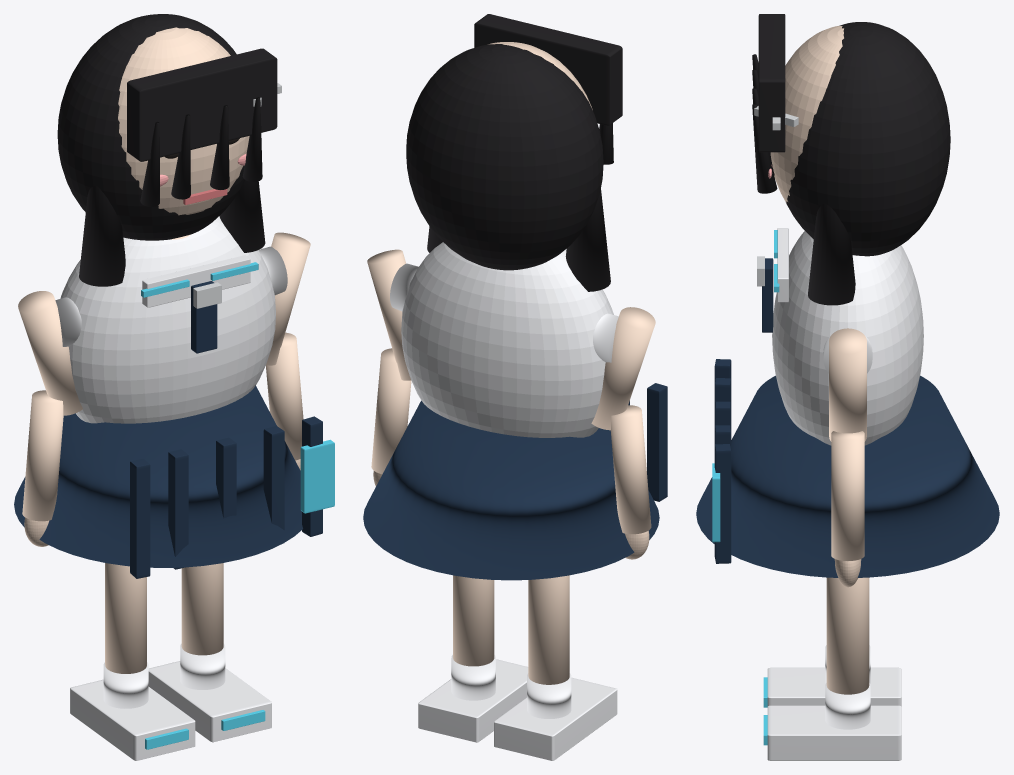
The model's file is athena-3d-default.glb.
The picture shows the model from 3 angles, left to right: view 1: azimuth 30°, elevation 25°; view 2: azimuth 150°, elevation 25°; view 3: azimuth 270°, elevation 25°; orthographic projection. The views are drawn at different scales.
Parts seen in each view (by area): view 1: ATH_SKIRT, ATH_TORSO_BLOUSE, ATH_HAIR_BACK, ATH_HAIR_FRONT_BANGS, ATH_HEAD, ATH_SHOE_L, ATH_SHOE_R, ATH_LEG_L, ATH_ARM_LOWER_L, ATH_ARM_UPPER_L, ATH_LEG_R, ATH_HAIR_SIDE_L (+23 smaller); view 2: ATH_HAIR_BACK, ATH_SKIRT, ATH_TORSO_BLOUSE, ATH_HAIR_FRONT_BANGS, ATH_SHOE_L, ATH_SHOE_R, ATH_LEG_L, ATH_ARM_LOWER_L, ATH_ARM_UPPER_L, ATH_LEG_R, ATH_ARM_LOWER_R, ATH_HAIR_SIDE_L (+7 smaller); view 3: ATH_SKIRT, ATH_HAIR_BACK, ATH_TORSO_BLOUSE, ATH_SHOE_R, ATH_HEAD, ATH_LEG_R, ATH_ARM_LOWER_R, ATH_ARM_UPPER_R, ATH_HAIR_FRONT_BANGS, ATH_HAIR_SIDE_R, ATH_SHOE_L, ATH_SKIRT_PLEAT_05 (+6 smaller).
Boxes of the visible parts, bbox=[...] form: ATH_SKIRT: bbox=[14, 385, 302, 567]; ATH_TORSO_BLOUSE: bbox=[60, 216, 275, 423]; ATH_HAIR_BACK: bbox=[57, 14, 244, 240]; ATH_HAIR_FRONT_BANGS: bbox=[127, 48, 277, 161]; ATH_HEAD: bbox=[118, 27, 249, 215]; ATH_SHOE_L: bbox=[70, 679, 195, 760]; ATH_SHOE_R: bbox=[148, 661, 271, 742]; ATH_LEG_L: bbox=[105, 563, 146, 673]; ATH_ARM_LOWER_L: bbox=[22, 390, 63, 521]; ATH_ARM_UPPER_L: bbox=[18, 291, 82, 415]; ATH_LEG_R: bbox=[181, 563, 223, 655]; ATH_HAIR_SIDE_L: bbox=[79, 186, 125, 286]; ATH_HAIR_BACK: bbox=[406, 44, 603, 270]; ATH_SKIRT: bbox=[363, 400, 659, 580]; ATH_TORSO_BLOUSE: bbox=[401, 242, 613, 437]; ATH_HAIR_FRONT_BANGS: bbox=[474, 14, 622, 125]; ATH_SHOE_L: bbox=[494, 677, 617, 760]; ATH_SHOE_R: bbox=[418, 659, 528, 742]; ATH_LEG_L: bbox=[528, 575, 569, 684]; ATH_ARM_LOWER_L: bbox=[610, 405, 651, 534]; ATH_ARM_UPPER_L: bbox=[591, 307, 655, 430]; ATH_LEG_R: bbox=[453, 575, 494, 666]; ATH_ARM_LOWER_R: bbox=[371, 348, 411, 474]; ATH_HAIR_SIDE_L: bbox=[565, 189, 610, 291]; ATH_SKIRT: bbox=[696, 375, 999, 577]; ATH_HAIR_BACK: bbox=[786, 22, 950, 256]; ATH_TORSO_BLOUSE: bbox=[772, 231, 923, 445]; ATH_SHOE_R: bbox=[767, 705, 901, 760]; ATH_HEAD: bbox=[770, 26, 843, 202]; ATH_LEG_R: bbox=[826, 577, 869, 694]; ATH_ARM_LOWER_R: bbox=[831, 431, 864, 560]; ATH_ARM_UPPER_R: bbox=[829, 328, 866, 441]; ATH_HAIR_FRONT_BANGS: bbox=[758, 14, 785, 152]; ATH_HAIR_SIDE_R: bbox=[808, 203, 855, 305]; ATH_SHOE_L: bbox=[767, 667, 901, 706]; ATH_SKIRT_PLEAT_05: bbox=[714, 444, 731, 563].
Bounding box in the file's own units: 1.5 × 3.44 × 1.36.
